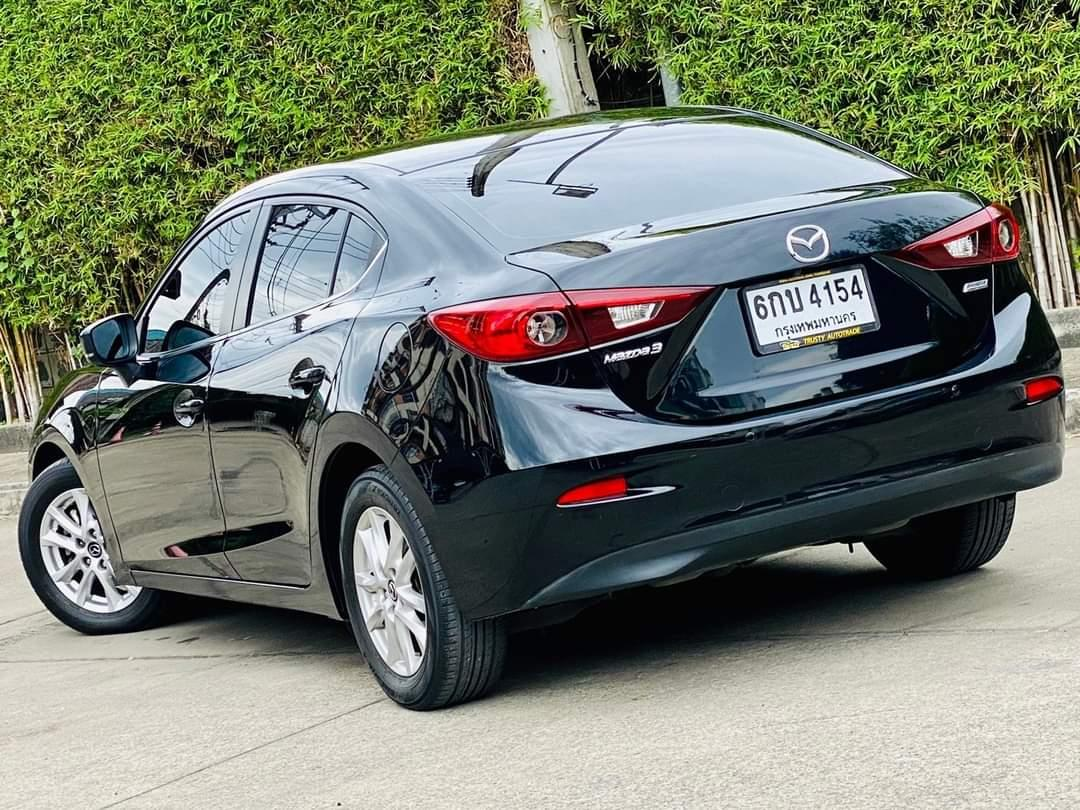license-plate: (735, 257, 883, 359)
